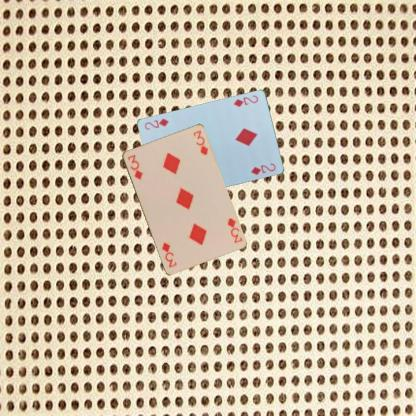2d: (231, 93, 260, 109)
3d: (125, 152, 143, 181), (225, 215, 243, 244)
